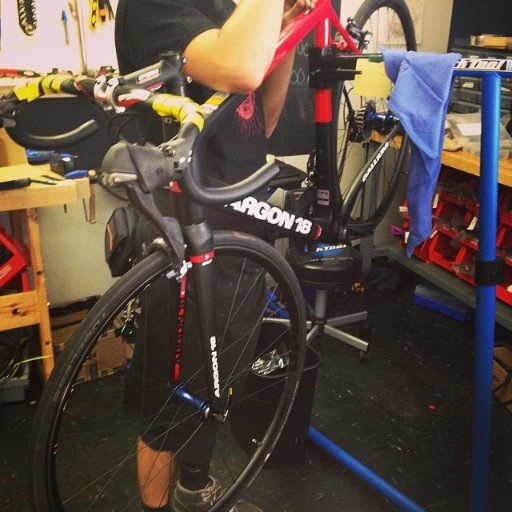hand: (280, 0, 318, 28)
